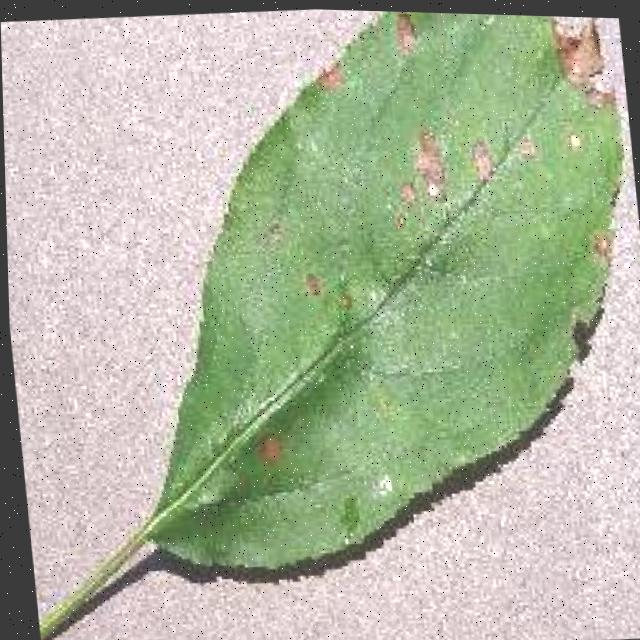black_rot: (527, 16, 627, 127), (394, 114, 462, 220), (285, 252, 374, 326), (463, 122, 513, 201), (242, 413, 299, 478), (575, 205, 624, 277), (384, 11, 432, 61), (312, 51, 357, 95)
